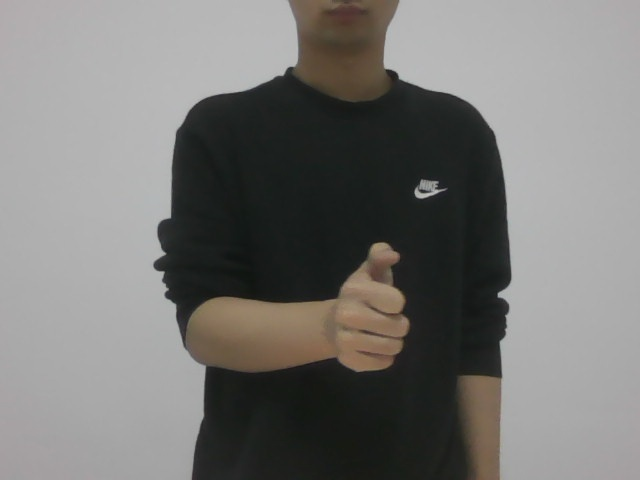thank you: (323, 234, 410, 374)
